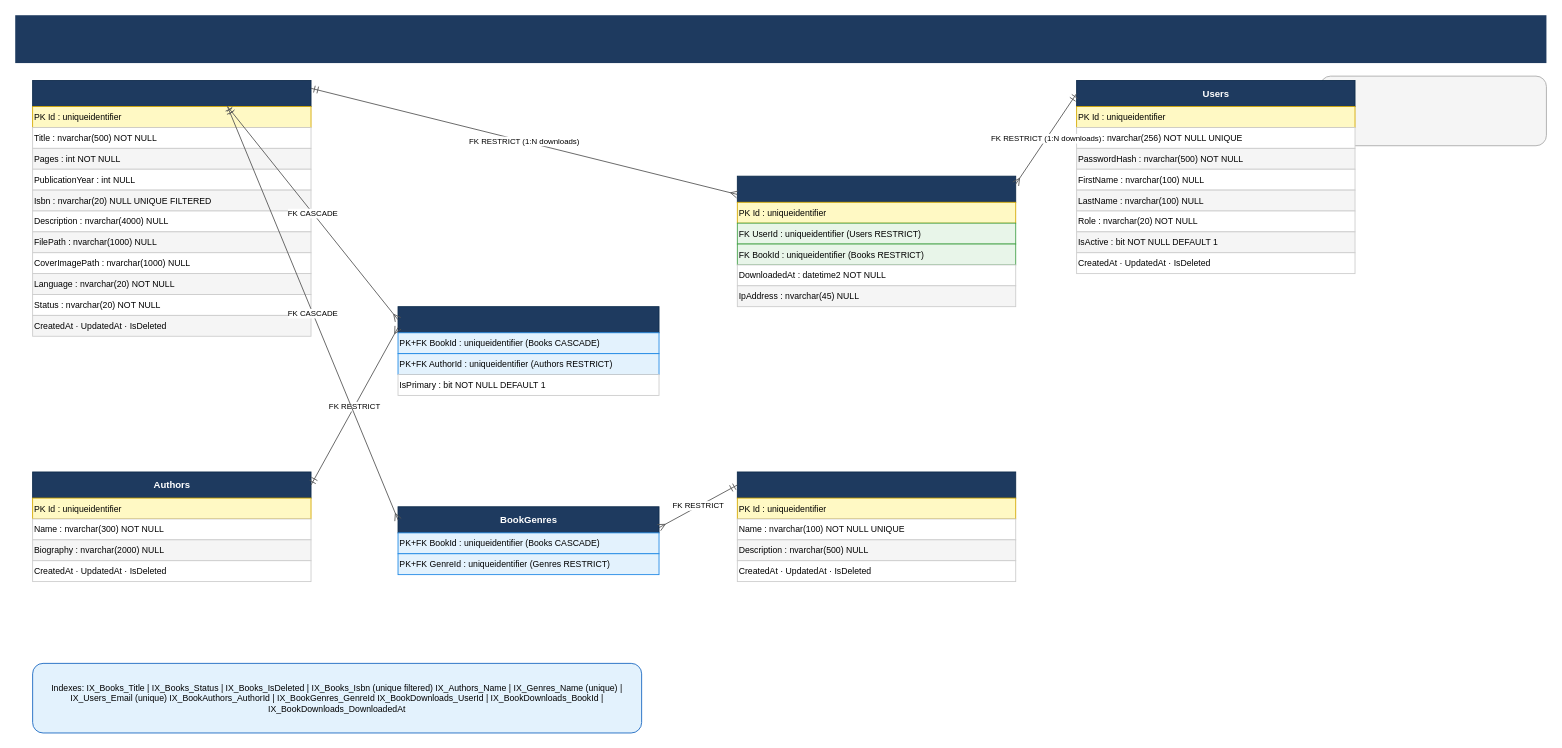
The diagram is 1562 pixels wide and 748 high, and some of its shapes have lost their labels. Each missing label, with the box of its shape:
BookAuthors: (397, 306, 659, 333)
BookDownloads: (736, 175, 1016, 202)
Books: (32, 80, 311, 107)
EBook Library — Entity Relationship Diagram (SQL Server): (15, 15, 1546, 63)
Genres: (736, 471, 1016, 498)
PK = Primary Key FK = Foreign Key (Arrow tip = "many" side): (1319, 75, 1546, 146)
